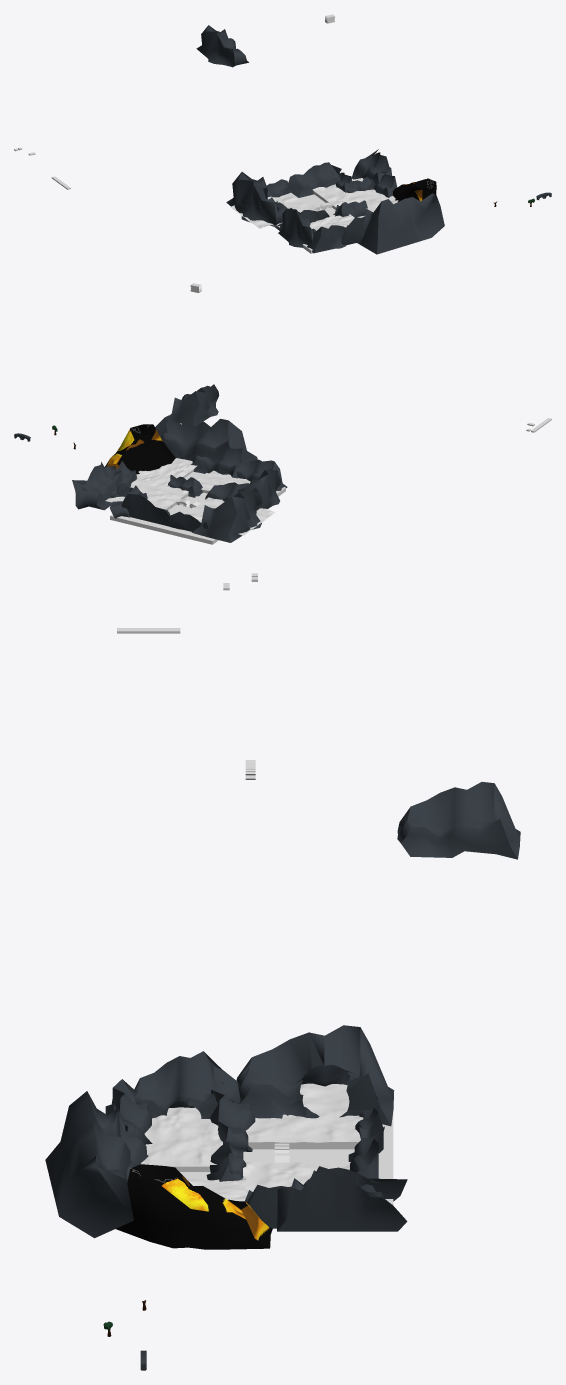
File: Level.FBX
3 renders of one model, top to bottom at view 1: azimuth 30°, elevation 25°; view 2: azimuth 150°, elevation 25°; view 3: azimuth 270°, elevation 25°, orthographic. The views are drawn at different scales.
Parts seen in each view (by area): view 1: MountainR007, Sphere001, MountainR005, MountainTL001, Sphere002, Plane003, MountainTR002, MountainR011, Volcano001, Plane001, MountainL005, MountainR008 (+4 smaller); view 2: MountainR007, Sphere001, Volcano001, MountainTR002, MountainR005, Shape221, MountainL005, Plane003, MountainTL001, Sphere002, Plane005, MountainR011 (+7 smaller); view 3: Sphere001, MountainR007, Volcano001, MountainR005, MountainTR002, Sphere002, Plane001, Plane004, Shape221, Plane003, MountainR006, MountainTL001 (+5 smaller).
Part boxes in pixels (x1,y1,x2,y2): MountainR007: [357, 193, 444, 254]; Sphere001: [226, 172, 287, 226]; MountainR005: [196, 25, 248, 67]; MountainTL001: [288, 162, 340, 197]; Sphere002: [278, 208, 315, 247]; Plane003: [312, 178, 386, 207]; MountainTR002: [351, 149, 392, 186]; MountainR011: [307, 225, 346, 253]; Volcano001: [393, 178, 436, 201]; Plane001: [230, 193, 315, 228]; MountainL005: [341, 216, 365, 244]; MountainR008: [333, 200, 367, 217]; MountainR007: [155, 415, 246, 468]; Sphere001: [191, 487, 262, 542]; Volcano001: [105, 424, 175, 474]; MountainTR002: [72, 462, 122, 510]; MountainR005: [165, 384, 219, 426]; Shape221: [110, 471, 285, 544]; MountainL005: [191, 448, 257, 478]; Plane003: [105, 479, 188, 509]; MountainTL001: [121, 493, 170, 526]; Sphere002: [238, 469, 280, 508]; Plane005: [136, 458, 197, 486]; MountainR011: [234, 459, 287, 490]; Sphere001: [236, 1025, 394, 1126]; MountainR007: [45, 1091, 133, 1238]; Volcano001: [116, 1164, 272, 1249]; MountainR005: [397, 782, 520, 859]; MountainTR002: [277, 1171, 407, 1231]; Sphere002: [134, 1051, 240, 1118]; Plane001: [246, 1083, 363, 1142]; Plane004: [141, 1107, 222, 1165]; Shape221: [180, 1112, 393, 1205]; Plane003: [243, 1162, 350, 1197]; MountainR006: [210, 1081, 255, 1151]; MountainTL001: [348, 1126, 384, 1191].
Size of the model in its own units: 2350 by 920 by 951.
